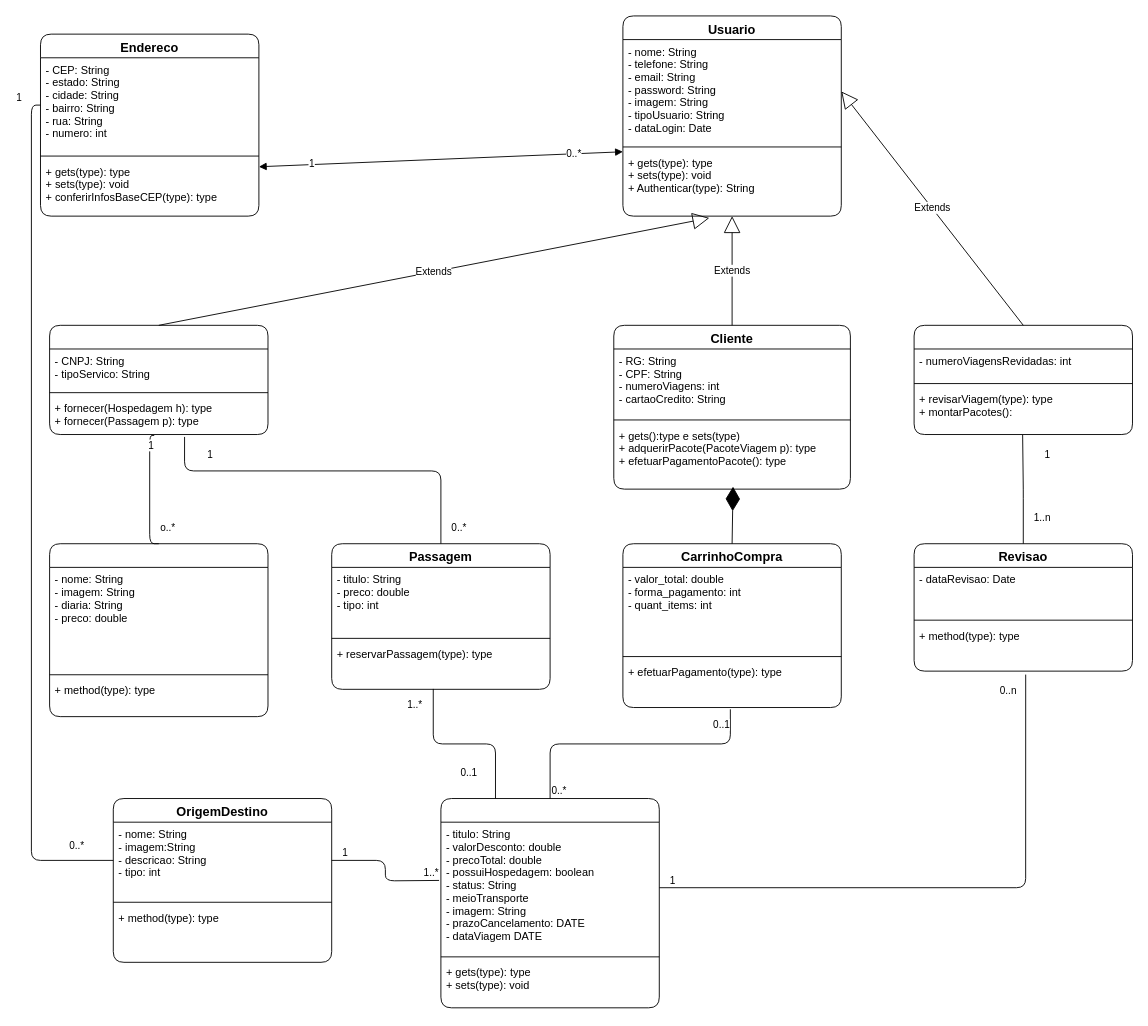
Some shapes in this 1148 by 1026 pixel diagram are drawn without their labels. The box of each missing label's shape, as (x1, y1, x2, y2) in pixels:
Administrador: (913, 324, 1132, 435)
Fornecedor: (49, 324, 268, 435)
Hospedagem: (49, 543, 268, 717)
PacoteViagem: (440, 798, 659, 1008)
